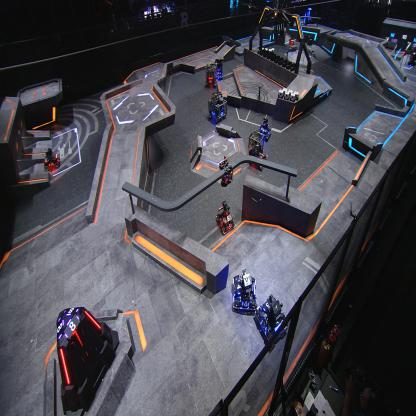car: (253, 293, 288, 349), (232, 268, 258, 314), (247, 128, 268, 170), (216, 200, 236, 234), (208, 90, 228, 123), (43, 147, 60, 170), (258, 116, 272, 140), (204, 62, 217, 87), (212, 57, 224, 79), (288, 35, 295, 46)
